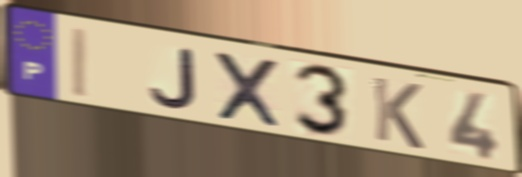3: (289, 63, 358, 142)
4: (445, 89, 502, 163)
I: (71, 25, 91, 102)
J: (146, 46, 200, 112)
K: (369, 73, 427, 153)
X: (210, 47, 286, 132)
